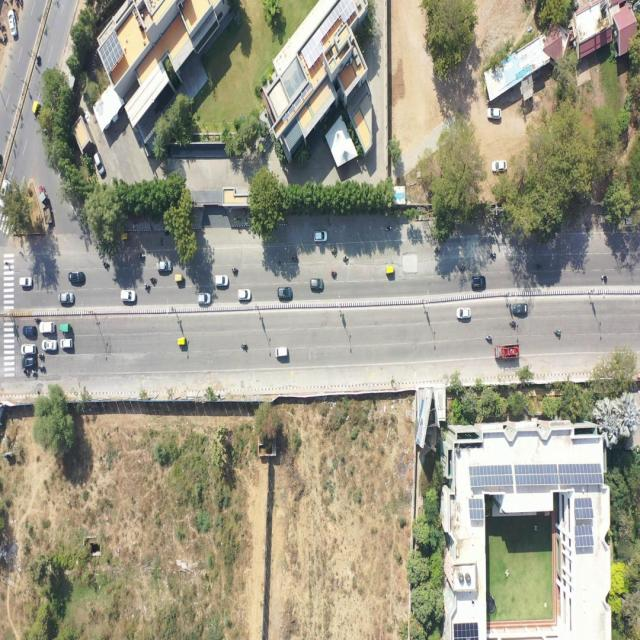3W: (29, 93, 43, 120), (382, 260, 397, 278), (58, 319, 72, 335), (119, 229, 132, 244), (176, 334, 188, 350), (174, 272, 186, 286)
Cars: (0, 170, 14, 217), (66, 266, 88, 288), (7, 8, 21, 39), (58, 288, 78, 308), (484, 104, 503, 125), (94, 144, 106, 177), (620, 210, 638, 231), (275, 282, 294, 301), (511, 299, 530, 318), (454, 304, 474, 322), (120, 285, 138, 304), (17, 271, 34, 291), (38, 320, 57, 337), (470, 273, 487, 292), (490, 157, 509, 174), (236, 285, 253, 303), (194, 289, 213, 305), (21, 322, 38, 339), (156, 258, 174, 274), (40, 338, 60, 352), (59, 336, 76, 352), (272, 345, 290, 360), (308, 276, 326, 291), (313, 226, 329, 242), (20, 342, 38, 356), (214, 273, 230, 288), (21, 356, 38, 368)
M2W: (550, 324, 563, 340), (487, 248, 498, 262), (531, 259, 543, 271), (239, 340, 250, 353), (102, 258, 113, 271), (142, 282, 153, 294), (484, 332, 494, 345), (433, 243, 443, 256), (600, 272, 609, 286), (329, 268, 338, 282), (2, 30, 9, 48), (163, 226, 172, 239), (31, 368, 40, 381), (456, 263, 467, 273), (138, 250, 147, 262), (37, 351, 46, 362), (36, 52, 42, 68), (508, 319, 517, 329), (329, 247, 339, 256), (290, 254, 300, 263), (231, 266, 240, 276), (150, 277, 160, 286), (38, 364, 48, 373), (343, 254, 350, 264), (34, 316, 42, 324), (386, 223, 392, 233), (22, 371, 31, 376)
Truck: (35, 176, 56, 228), (492, 343, 522, 363)
